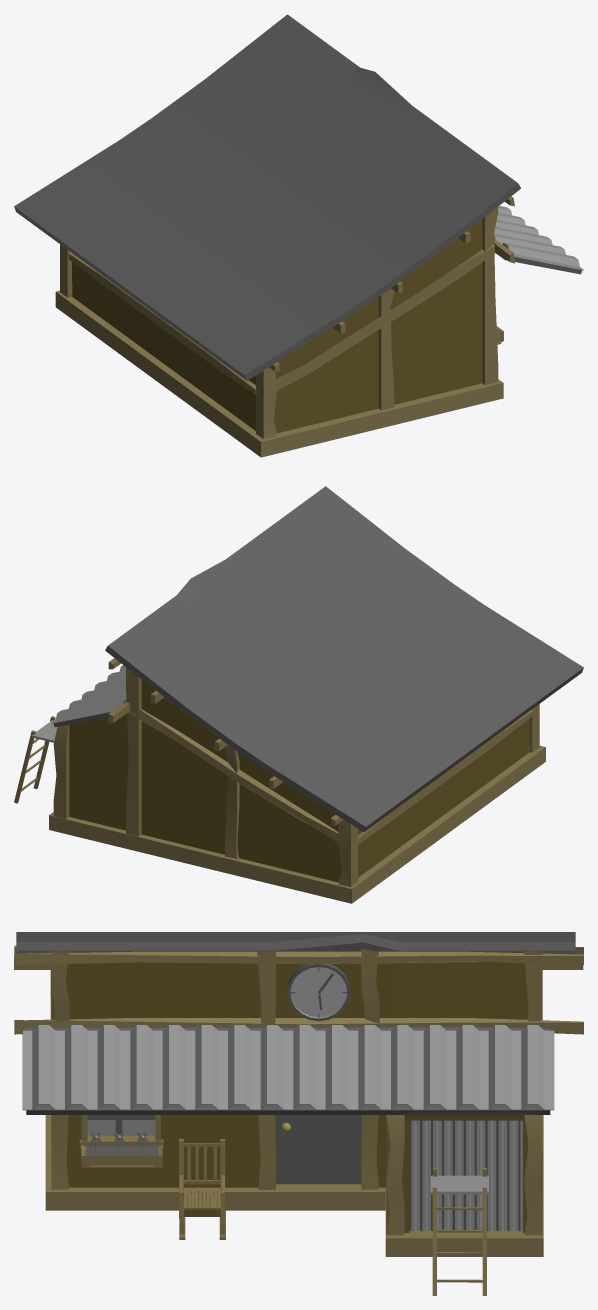
File: Old man hut.fbx
3 renders of one model, top to bottom at view 1: azimuth 30°, elevation 25°; view 2: azimuth 150°, elevation 25°; view 3: azimuth 270°, elevation 25°, orthographic. The views are drawn at different scales.
Visible parts, largest first — view 1: pasted__group_pasted__pasted__group12_pasted__pasted__group1; view 2: pasted__group_pasted__pasted__group12_pasted__pasted__group1; view 3: pasted__group_pasted__pasted__group12_pasted__pasted__group1.
Boxes of the visible parts, box(x1,y1,x2,y2) form: pasted__group_pasted__pasted__group12_pasted__pasted__group1: box(14, 14, 583, 457); pasted__group_pasted__pasted__group12_pasted__pasted__group1: box(14, 486, 583, 903); pasted__group_pasted__pasted__group12_pasted__pasted__group1: box(14, 932, 583, 1295).
Size of the model in its own units: 4.05 by 2.2 by 4.03.
